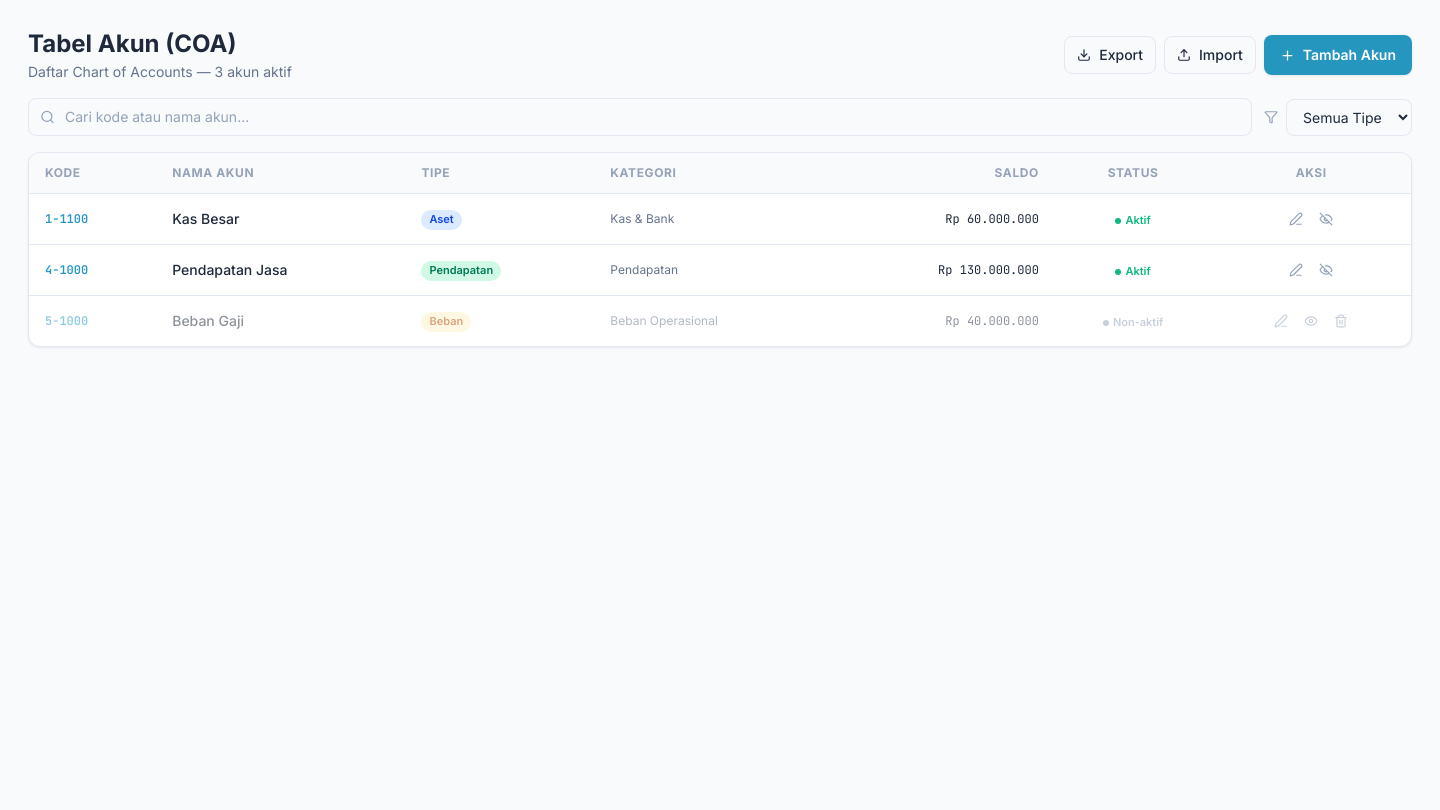
Test: AccountsPage › tombol Edit membuka dialog dengan data akun
Check: the text "Kas Besar" is shown, box [156, 194, 405, 244]
Click the button titled "Edit akun" in the row of "1-1100" at (1296, 219), box [1283, 206, 1309, 232]
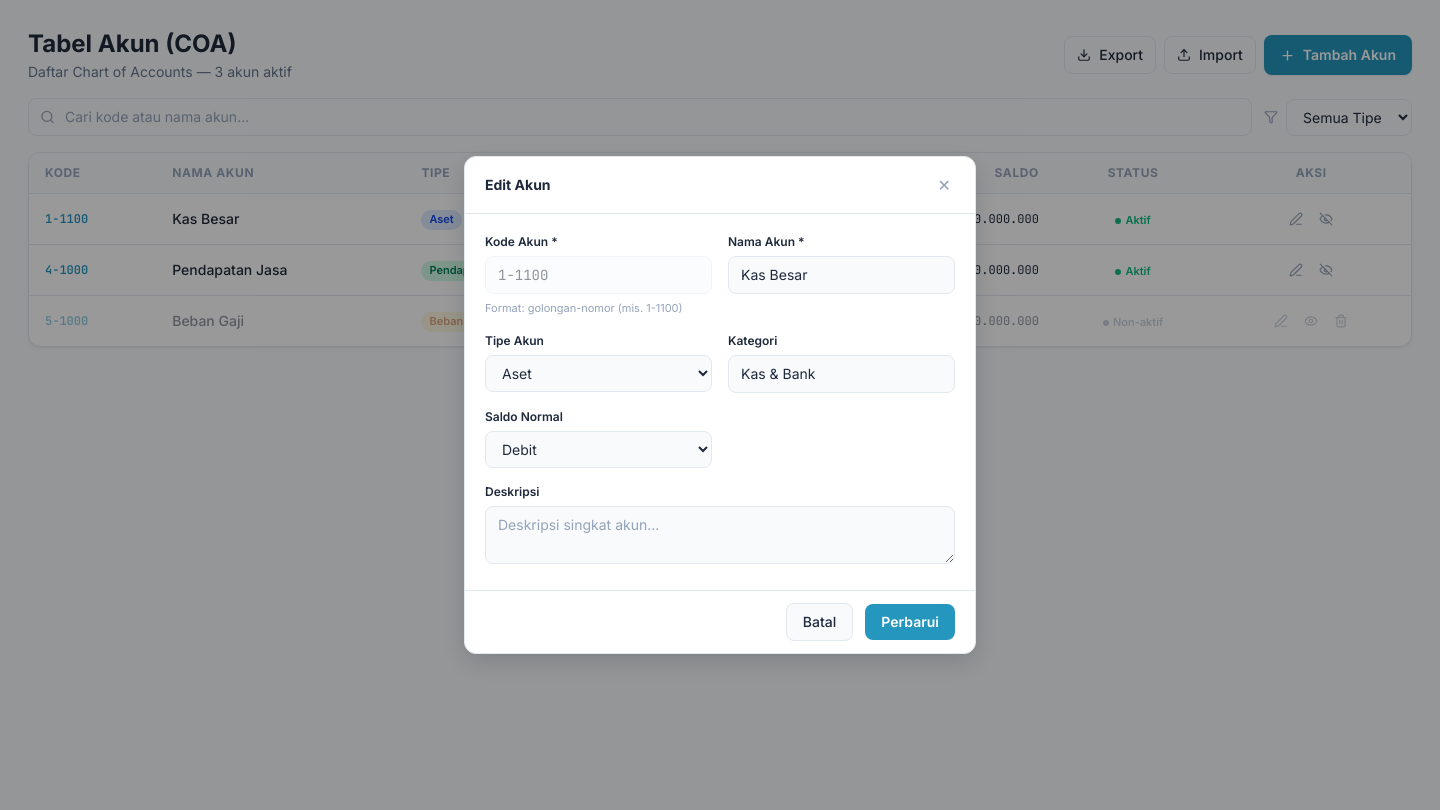
Check: the heading "Edit Akun" is shown, box [485, 175, 551, 195]
Check: the field labelled "Kode Akun *" holds "1-1100", box [485, 256, 712, 294]
